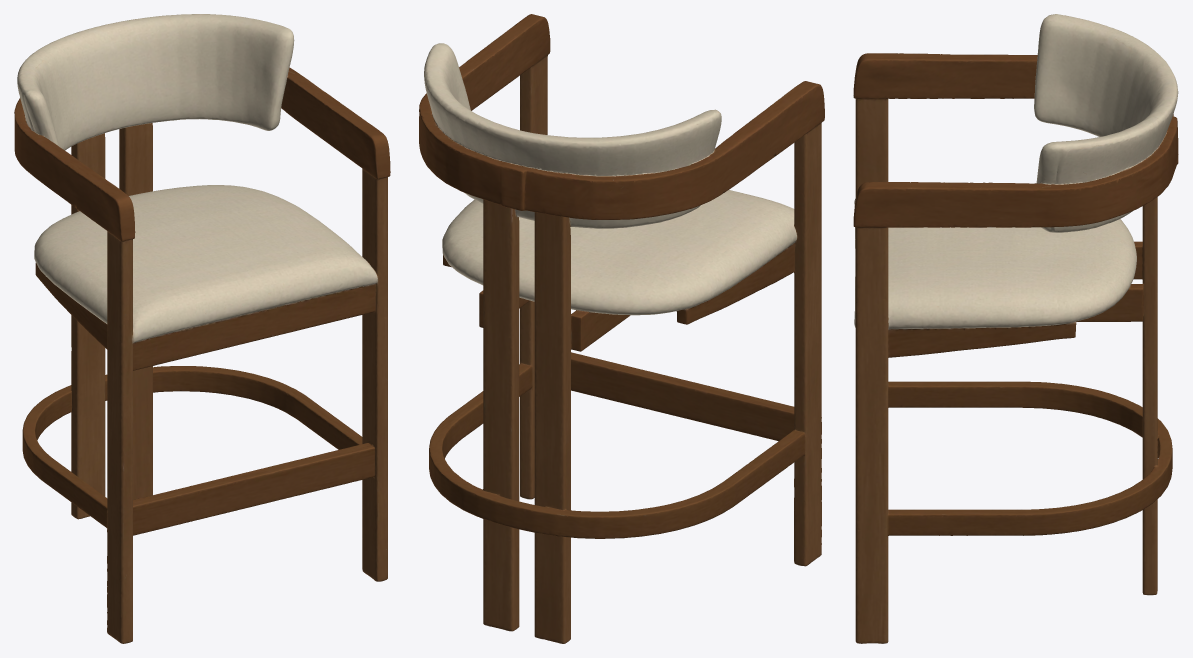
File: contemporary_bar_stool_9yfyls.glb
The picture shows the model from 3 angles, left to right: view 1: azimuth 30°, elevation 25°; view 2: azimuth 150°, elevation 25°; view 3: azimuth 270°, elevation 25°; orthographic projection. The views are drawn at different scales.
Visible parts, largest first — view 1: world; view 2: world; view 3: world.
Boxes of the visible parts, x1,y1,x2,y2 form: world: [14, 14, 390, 643]; world: [419, 14, 824, 643]; world: [853, 14, 1178, 643].
Size of the model in its own units: 0.5871 by 1 by 0.5922.
Materials: 1 (1 with a texture image).
